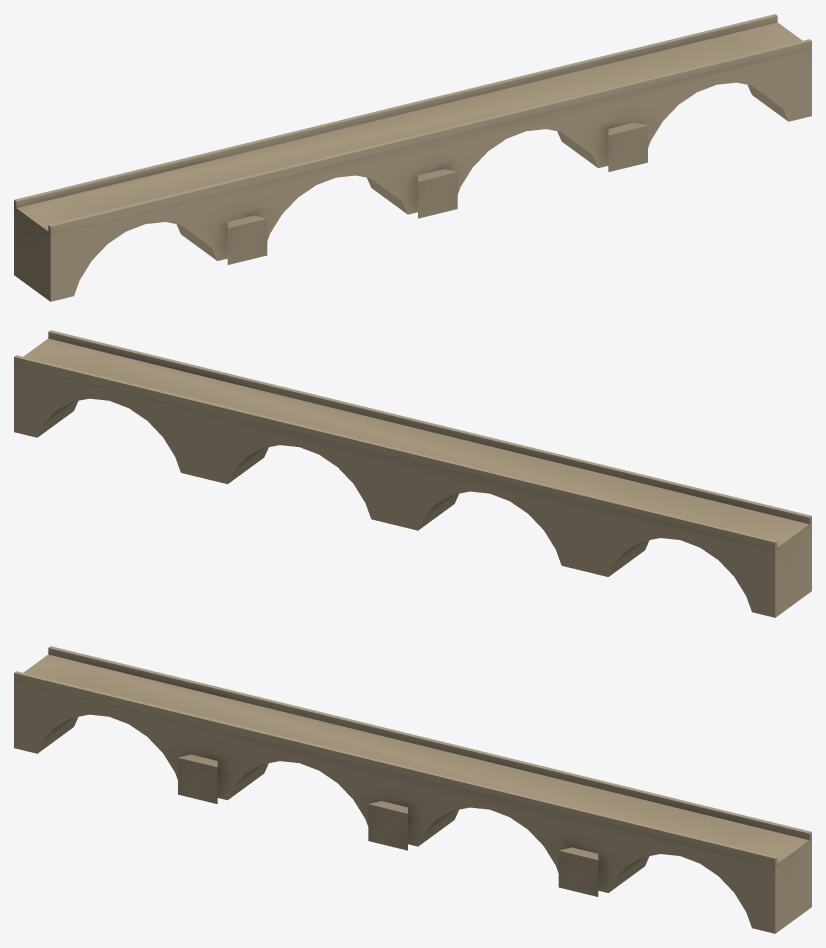
Rendered from pons-aurelius.glb.
3 views of the same model, one above another, from view 1: azimuth 30°, elevation 25°; view 2: azimuth 150°, elevation 25°; view 3: azimuth 330°, elevation 25° (orthographic).
Visible parts, largest first — view 1: p1_deck, p0_arches; view 2: p1_deck, p0_arches; view 3: p1_deck, p0_arches.
Part boxes in pixels (left/top/right/bottom): p1_deck: left=14, top=14, right=811, bottom=235; p0_arches: left=14, top=50, right=811, bottom=301; p1_deck: left=14, top=330, right=811, bottom=551; p0_arches: left=14, top=366, right=811, bottom=617; p1_deck: left=14, top=646, right=811, bottom=867; p0_arches: left=14, top=682, right=811, bottom=933.
Size of the model in its own units: 108 by 10.2 by 10.62.
